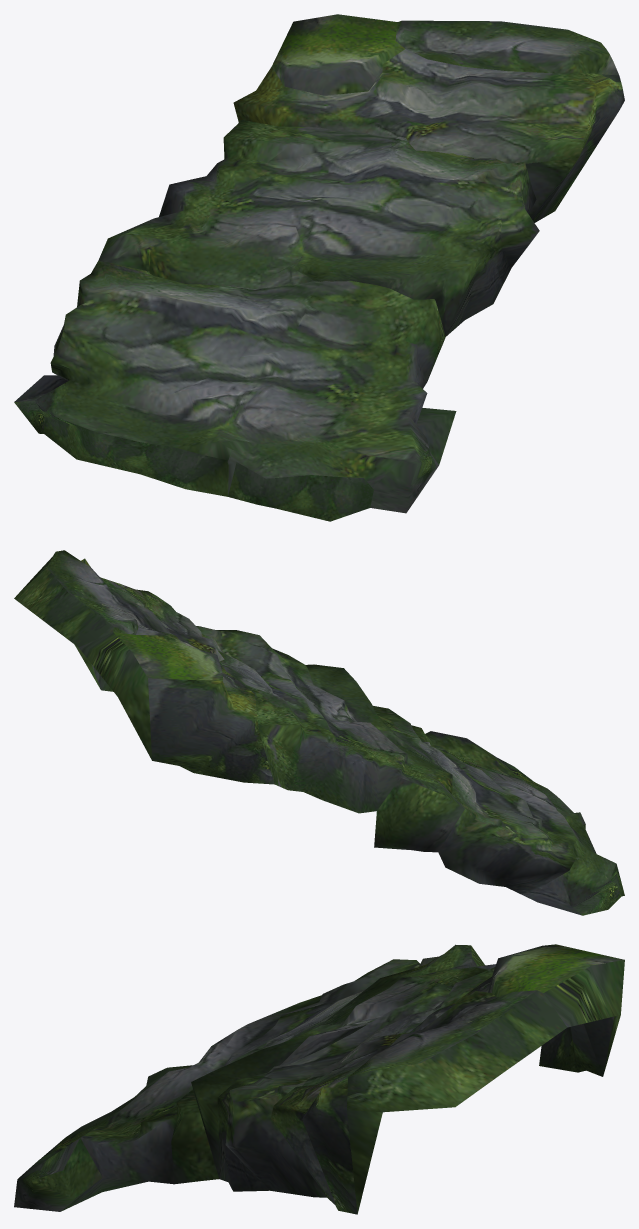
File: dx_taijie_1.FBX
3 renders of one model, top to bottom at view 1: azimuth 30°, elevation 25°; view 2: azimuth 150°, elevation 25°; view 3: azimuth 270°, elevation 25°, orthographic. The views are drawn at different scales.
Visible parts, largest first — view 1: dx_taijie_1; view 2: dx_taijie_1; view 3: dx_taijie_1.
Boxes of the visible parts, x1,y1,x2,y2 form: dx_taijie_1: [14, 14, 624, 521]; dx_taijie_1: [14, 550, 624, 915]; dx_taijie_1: [14, 944, 624, 1214].
Bounding box in the file's own units: 584 × 430 × 277.
1 material, 1 textured.
